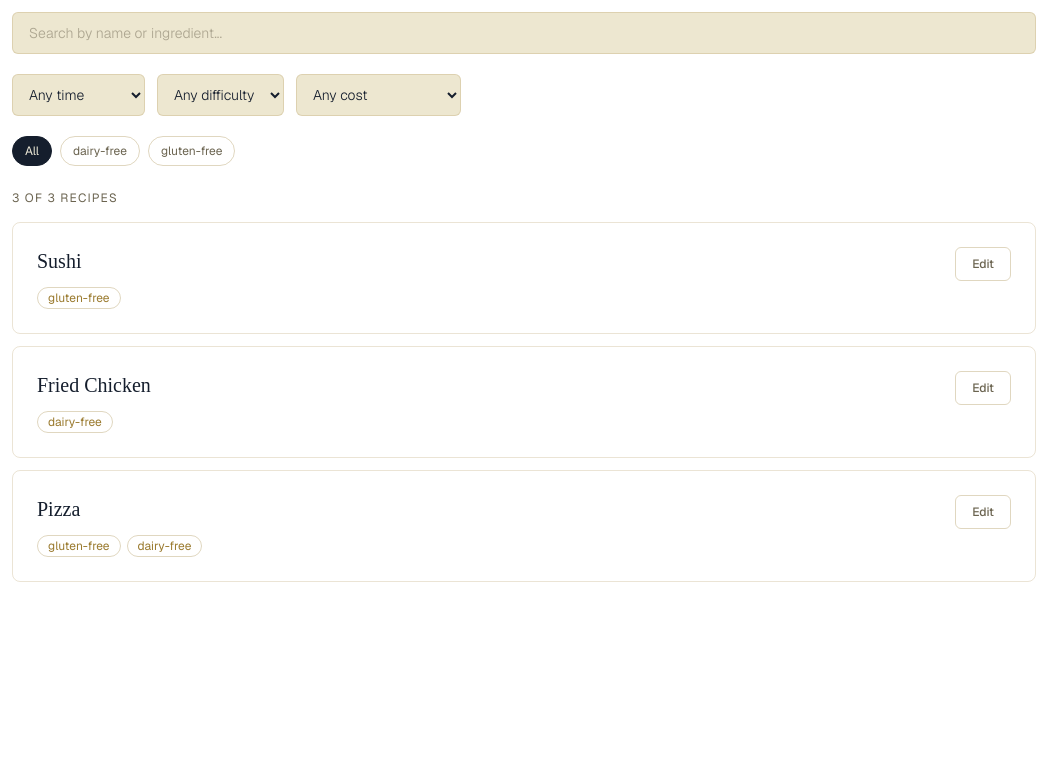
it: RecipeListClient › filters recipes to only those matching the selected tag
What coordinates should you click on to do the following:
click the button "gluten-free"
I would click on:
 (192, 151)
Its box is [148, 136, 236, 166].
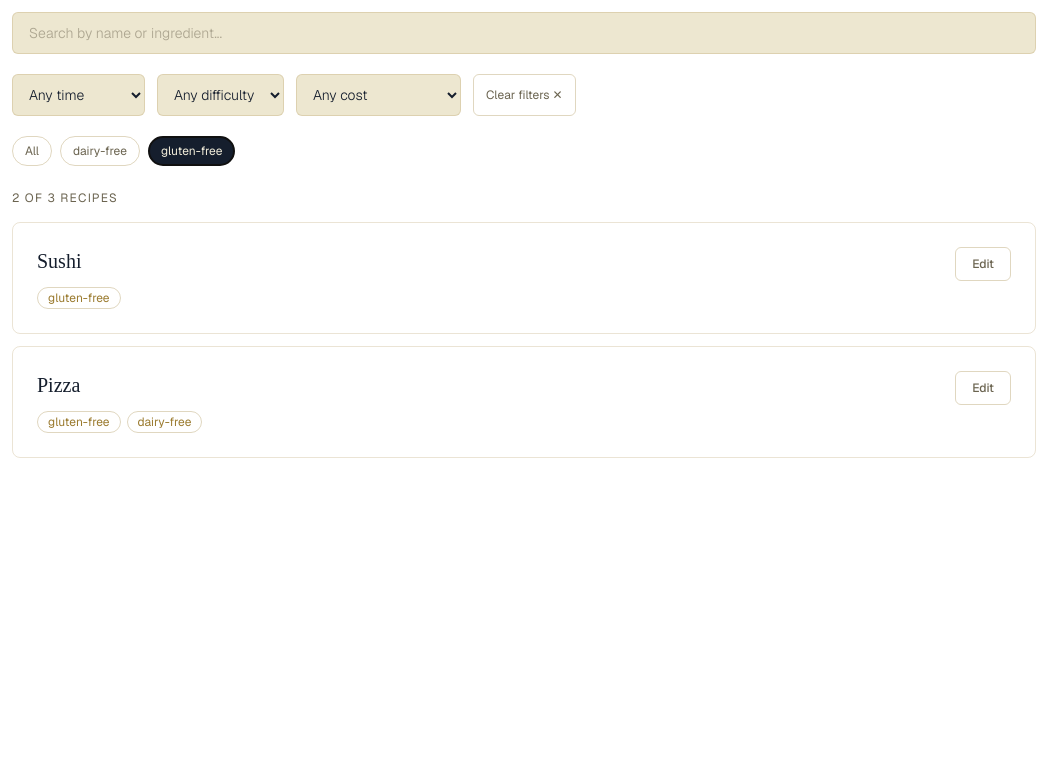
Expected: the heading "Sushi" is shown, [37, 250, 82, 272]
Expected: the heading "Fried Chicken" is gone
Expected: the text "2 of 3 recipes" is shown, [12, 190, 118, 206]
